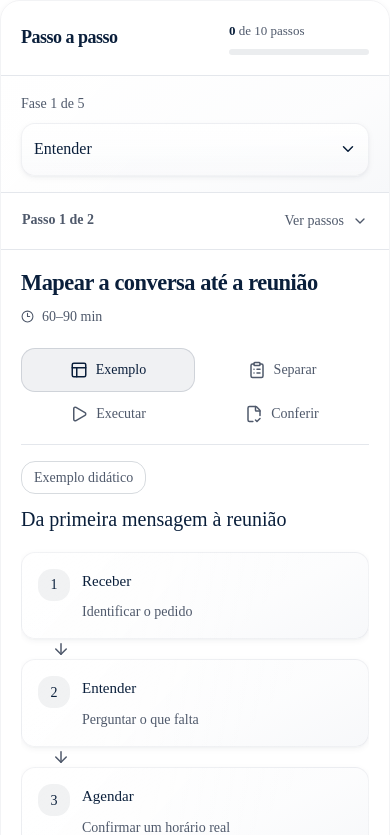
Test case: Navegação da implementação › seleciona qualquer fase, abre a lista e recolhe após escolher um passo
The width and height of the screenshot is (390, 835).
Select "Construir" in the dropdown named "Escolher fase do projeto" at (195, 149), box [21,123,369,176]
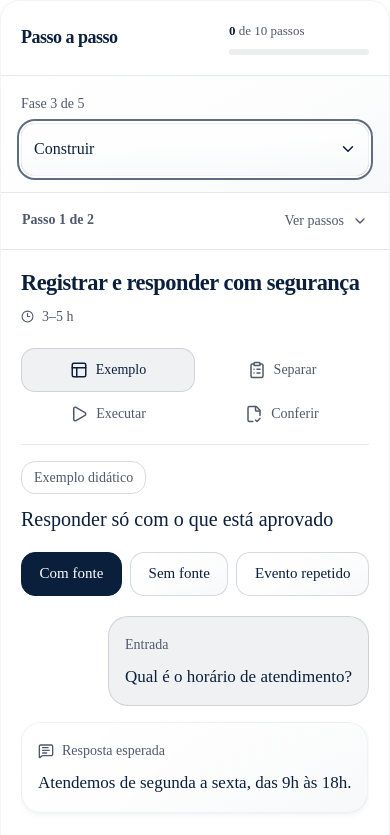
Click the button "Passo 1 de 2 Ver passos".
click(40, 220)  # box [21,193,369,249]
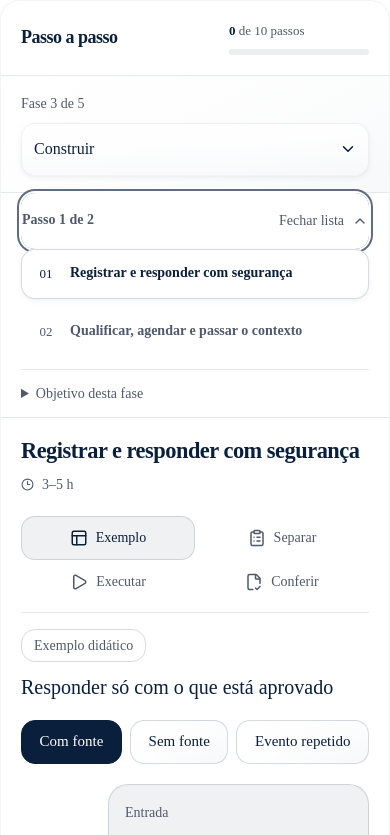
Expected: the button "Ver passos" is expanded, [21,193,369,249]
Click the button "Qualificar, agendar e passar o contexto".
click(195, 332)  # box [21,307,369,357]
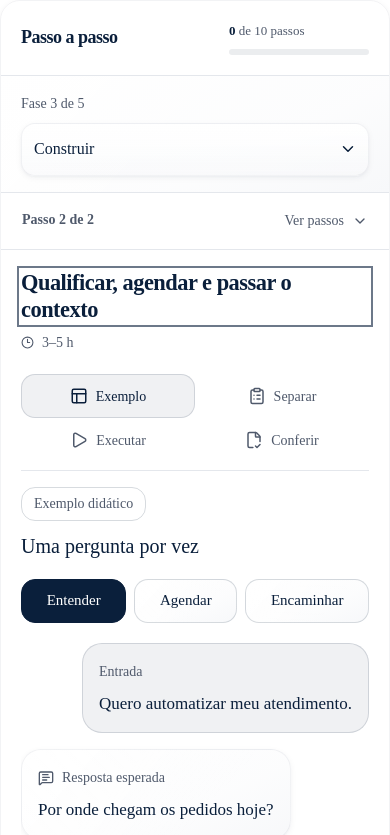
Expected: the button "Passo 2 de 2 Ver passos" is shown, [21,193,369,249]
Expected: the button "Passo 2 de 2 Ver passos" is collapsed, [21,193,369,249]
